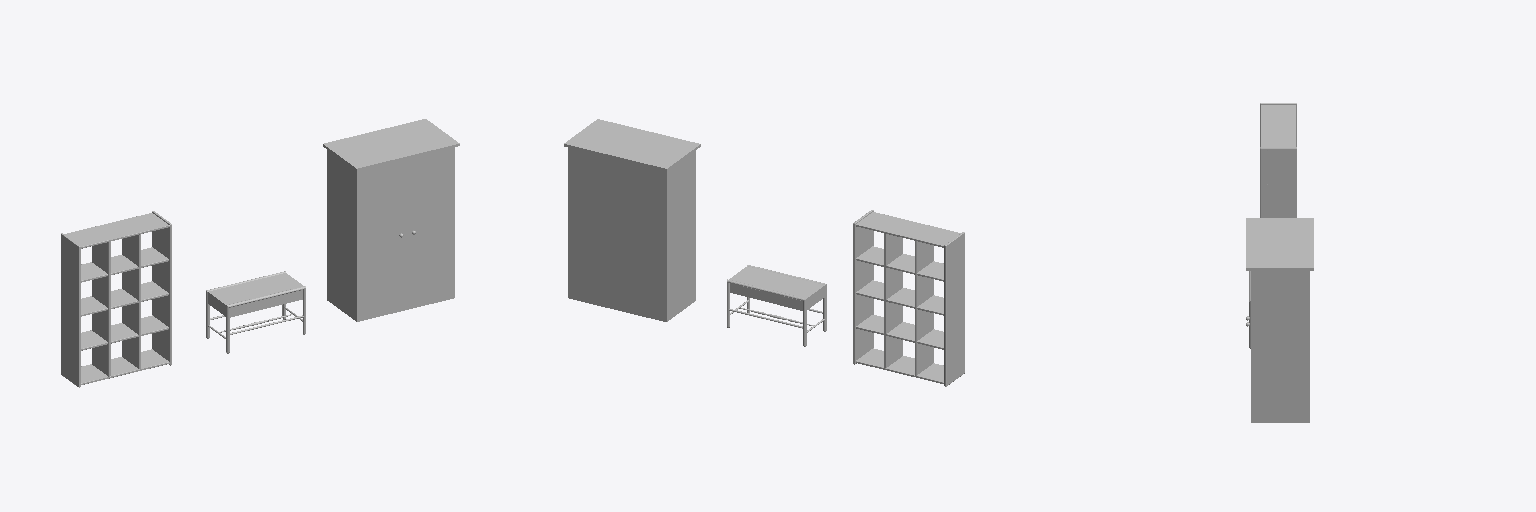
Rendered from bedroom.obj.
3 views of the same model, side by side, from view 1: azimuth 30°, elevation 25°; view 2: azimuth 150°, elevation 25°; view 3: azimuth 270°, elevation 25° (orthographic).
Visible parts, largest first — view 1: closet, wooden_display_shelves_01_Cube.026, small_wooden_table_01_Cylinder.002; view 2: closet, wooden_display_shelves_01_Cube.026, small_wooden_table_01_Cylinder.002; view 3: closet, wooden_display_shelves_01_Cube.026.
Boxes of the visible parts, x1,y1,x2,y2 form: closet: [323, 119, 459, 321]; wooden_display_shelves_01_Cube.026: [61, 211, 171, 387]; small_wooden_table_01_Cylinder.002: [206, 271, 305, 353]; closet: [564, 119, 700, 321]; wooden_display_shelves_01_Cube.026: [853, 210, 964, 386]; small_wooden_table_01_Cylinder.002: [727, 265, 826, 346]; closet: [1246, 218, 1313, 422]; wooden_display_shelves_01_Cube.026: [1260, 103, 1296, 217].
Size of the model in its own units: 12.94 by 5.23 by 2.06.